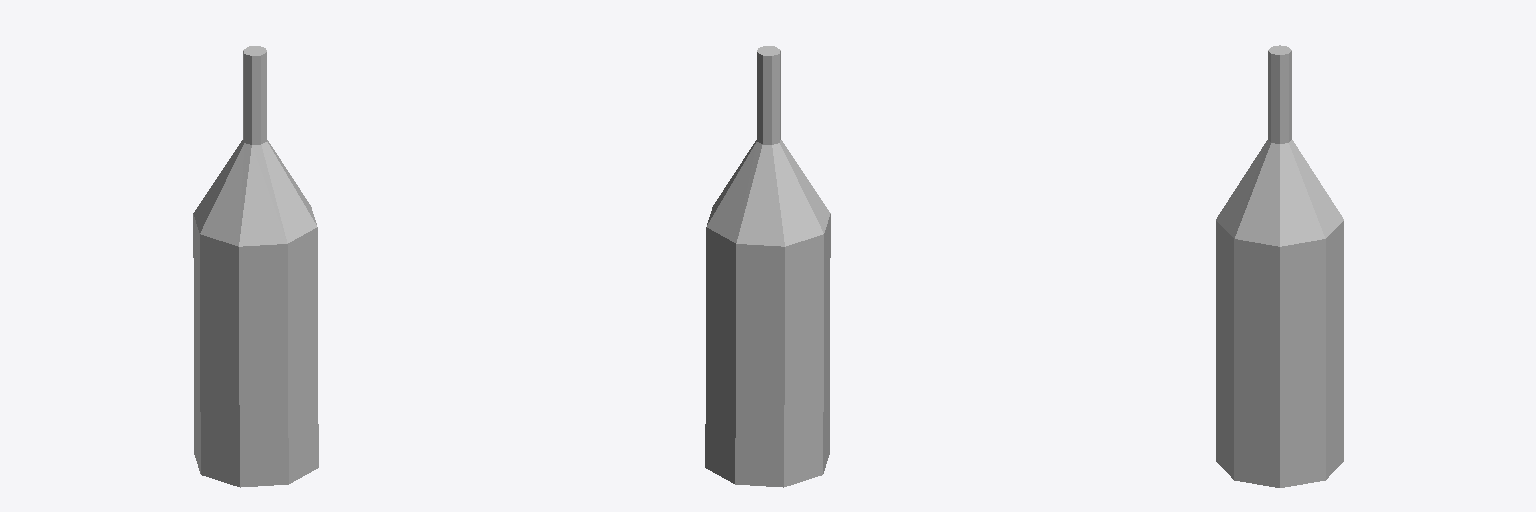
File: bouteille.obj
3 renders of one model, left to right at view 1: azimuth 30°, elevation 25°; view 2: azimuth 150°, elevation 25°; view 3: azimuth 270°, elevation 25°, orthographic.
Visible parts, largest first — view 1: ungrouped; view 2: ungrouped; view 3: ungrouped.
Boxes of the visible parts, box(x1,y1,x2,y2) form: ungrouped: box(193, 46, 318, 487); ungrouped: box(705, 46, 830, 487); ungrouped: box(1216, 45, 1343, 487).
Size of the model in its own units: 9.54 by 33.28 by 9.45.